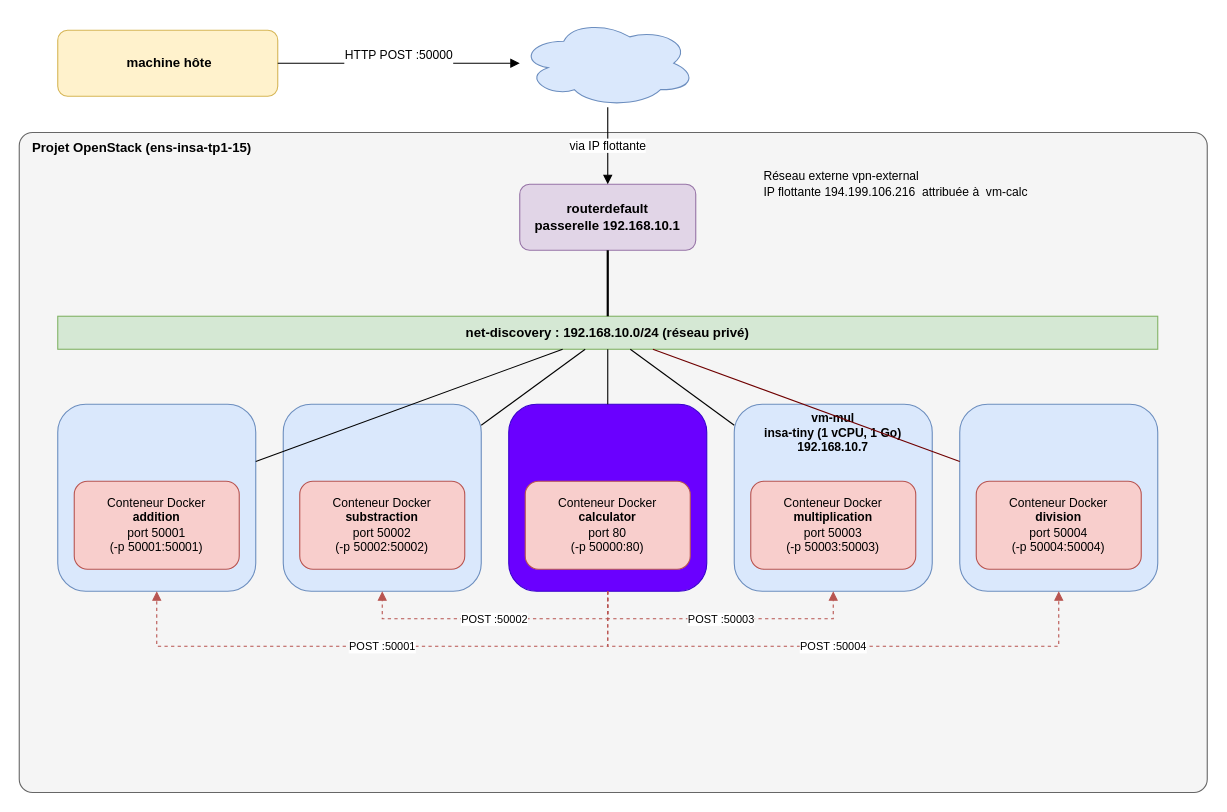
Image size: 1227x812. Some labels were removed from this diagram. Here are the shapes that lost their labels. From the top down, the box of each, then its label:
(519, 18, 696, 107): Internet
(57, 403, 256, 591): vm-add insa-tiny (1 vCPU, 1 Go) 192.168.10.4
(282, 403, 481, 591): vm-sub insa-tiny (1 vCPU, 1 Go) 192.168.10.5
(508, 403, 707, 591): vm-calc insa-tiny (1 vCPU, 1 Go) 192.168.10.6 + IP flottante 194.199.106.216
(959, 403, 1158, 591): vm-div insa-tiny (1 vCPU, 1 Go) 192.168.10.8
